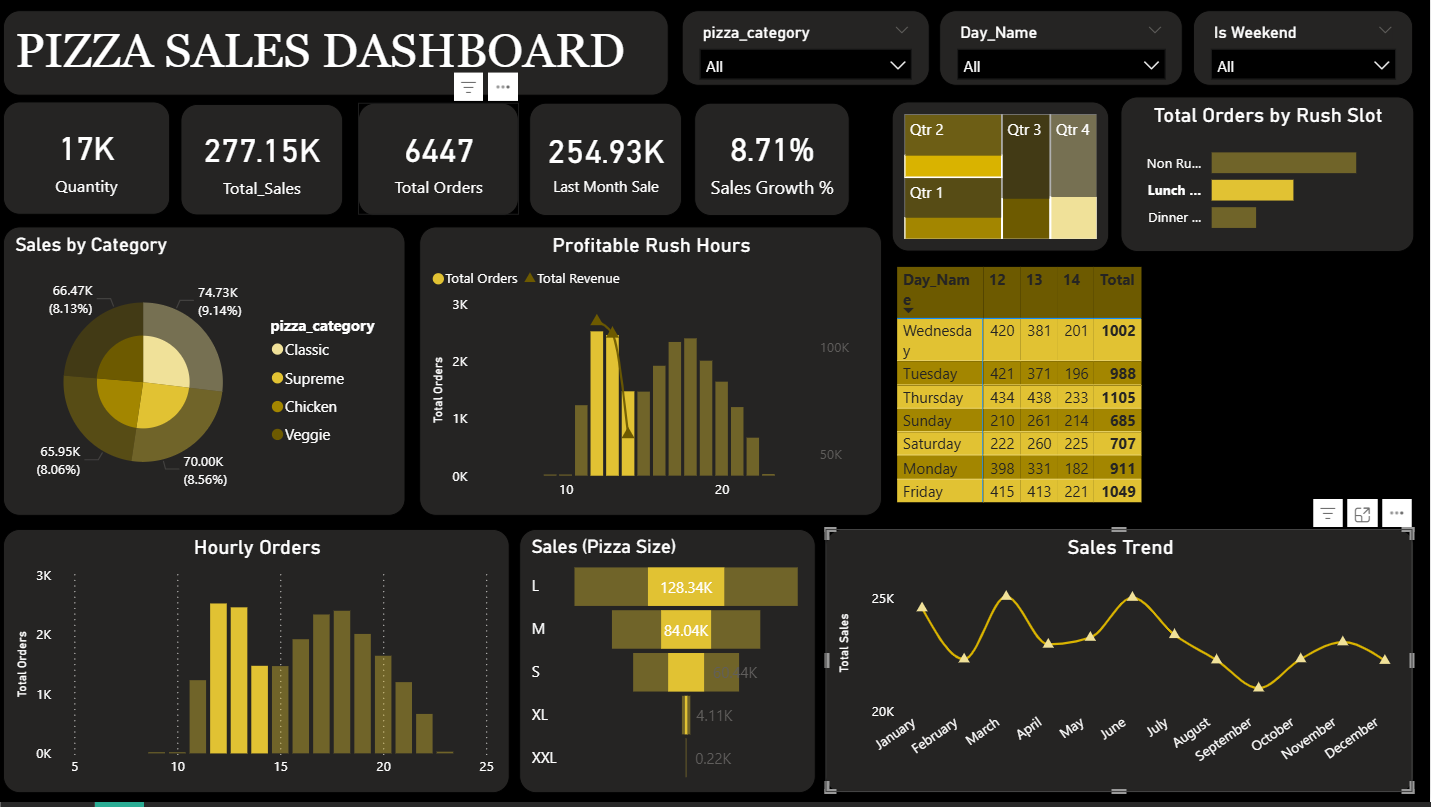

This screenshot's page, from the dashboard's own definition file:
{"tool":"powerbi","page":{"name":"Page 1","canvas":[1280,720],"ordinal":0},"visuals":[{"type":"textbox","box":[8.6,14.7,592.6,76.1],"z":0},{"type":"lineChart","title":"Sales Trend","fields":{"Category":["Date Table.Date.Variation.Date Hierarchy.Month"],"Y":["pizza_sales.Total Revenue"]},"box":[741.1,476.1,523.9,235.6],"z":1000},{"type":"treemap","fields":{"Group":["Date Table.Date.Variation.Date Hierarchy.Quarter"],"Values":["pizza_sales.Total Revenue"]},"box":[800,95.7,193.9,133.7],"z":2000},{"type":"pieChart","title":"Sales by Category","fields":{"Category":["pizza_sales.pizza_category"],"Y":["Sum(pizza_sales.total_price)"]},"box":[18.4,207.4,348.5,257.7],"z":3000},{"type":"card","fields":{"Values":["Sum(pizza_sales.total_price)"]},"box":[166.9,98.2,144.8,99.4],"z":4000},{"type":"card","fields":{"Values":["Sum(pizza_sales.quantity)"]},"box":[8.6,95.7,148.5,100.6],"z":5000},{"type":"card","fields":{"Values":["pizza_sales.Total Orders"]},"box":[325.2,96.9,143.6,100.6],"z":6000},{"type":"funnel","title":"Sales (Pizza Size)","fields":{"Y":["Sum(pizza_sales.total_price)"],"Category":["pizza_sales.pizza_size"]},"box":[477.3,476.1,246.6,235.6],"z":7000},{"type":"slicer","title":"Pizza Size","fields":{"Values":["pizza_sales.pizza_category"]},"box":[613.5,14.7,220.9,67.5],"z":8000},{"type":"pivotTable","fields":{"Rows":["pizza_sales.Day_Name"],"Columns":["pizza_sales.Hour"],"Values":["pizza_sales.Total Orders"]},"box":[800,238,479.8,231.9],"z":9000},{"type":"columnChart","title":"Hourly Orders","fields":{"Category":["pizza_sales.Hour"],"Y":["pizza_sales.Total Orders"]},"box":[18.4,476.1,441.7,235.6],"z":10000},{"type":"lineStackedColumnComboChart","title":"Profitable Rush Hours","fields":{"Category":["pizza_sales.Hour"],"Y":["pizza_sales.Total Orders"],"Y2":["pizza_sales.Total Revenue"]},"box":[379.1,207.4,412.3,257.7],"z":11000},{"type":"barChart","fields":{"Category":["pizza_sales.Run Slot"],"Y":["pizza_sales.Total Orders"]},"box":[1003.7,90.8,261.4,138.7],"z":12000},{"type":"slicer","title":"Pizza Size","fields":{"Values":["pizza_sales.Day_Name"]},"box":[842.9,14.7,217.2,67.5],"z":13000},{"type":"slicer","title":"Pizza Size","fields":{"Values":["pizza_sales.Is Weekend"]},"box":[1068.7,14.7,196.3,67.5],"z":14000},{"type":"card","fields":{"Values":["Date Table.Sales Growth %"]},"box":[624.5,96.9,138.7,100.6],"z":14001},{"type":"card","fields":{"Values":["Date Table.Previous Month Revenue"]},"box":[477.3,96.9,136.2,100.6],"z":14002}]}

Visuals, with their boxes in screenshot pixels (x1, y1, x2, y2), scaled from the page's 1280x720 canvas onto the 1431x807 screenshot:
textbox: <box>10,16,672,102</box>
"Sales Trend" lineChart: <box>829,534,1414,798</box>
treemap - Date Table.Date.Variation.Date Hierarchy.Quarter x pizza_sales.Total Revenue: <box>894,107,1111,257</box>
"Sales by Category" pieChart: <box>21,232,410,521</box>
card - Sum(pizza_sales.total_price): <box>187,110,348,221</box>
card - Sum(pizza_sales.quantity): <box>10,107,176,220</box>
card - pizza_sales.Total Orders: <box>364,109,524,221</box>
"Sales (Pizza Size)" funnel: <box>534,534,809,798</box>
"Pizza Size" slicer: <box>686,16,933,92</box>
pivotTable - pizza_sales.Day_Name x pizza_sales.Hour: <box>894,267,1430,527</box>
"Hourly Orders" columnChart: <box>21,534,514,798</box>
"Profitable Rush Hours" lineStackedColumnComboChart: <box>424,232,885,521</box>
barChart - pizza_sales.Run Slot x pizza_sales.Total Orders: <box>1122,102,1414,257</box>
"Pizza Size" slicer: <box>942,16,1185,92</box>
"Pizza Size" slicer: <box>1195,16,1414,92</box>
card - Date Table.Sales Growth %: <box>698,109,853,221</box>
card - Date Table.Previous Month Revenue: <box>534,109,686,221</box>
